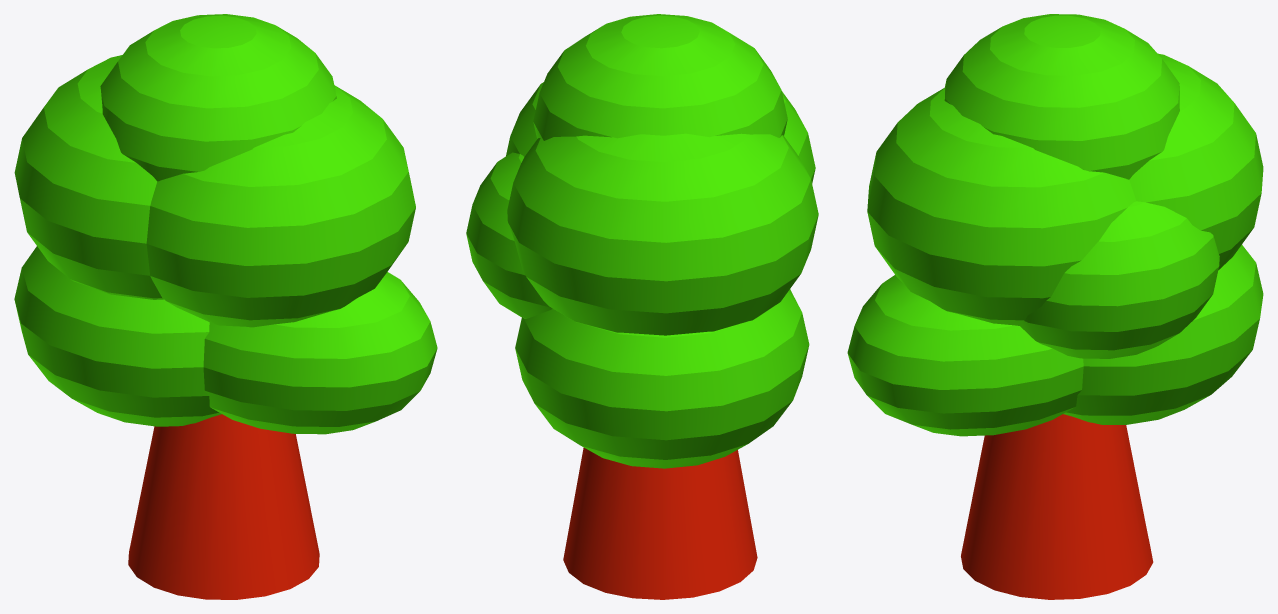
File: Ieproj_treeprop.fbx
The picture shows the model from 3 angles, left to right: view 1: azimuth 30°, elevation 25°; view 2: azimuth 150°, elevation 25°; view 3: azimuth 270°, elevation 25°; orthographic projection.
Visible parts, largest first — view 1: tree_3; view 2: tree_3; view 3: tree_3.
Part boxes in pixels (<box>): tree_3: <box>14,14,437,599</box>; tree_3: <box>466,14,818,599</box>; tree_3: <box>847,14,1263,599</box>.
Size of the model in its own units: 3.2 by 5.13 by 3.65.
